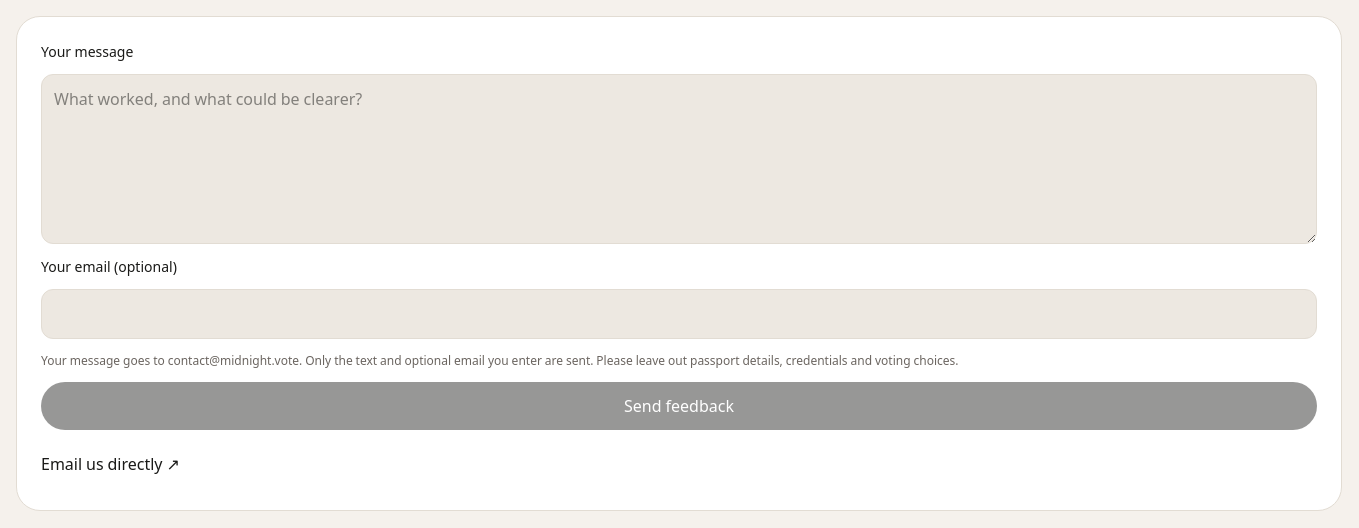
Test case: feedback submission › sends only explicitly entered text and email, and prevents duplicate clicks
Type "The Passport retry could be clearer." into the text box labelled "Your message" at x=679, y=159, box x1=41 y1=74 x2=1317 y2=244
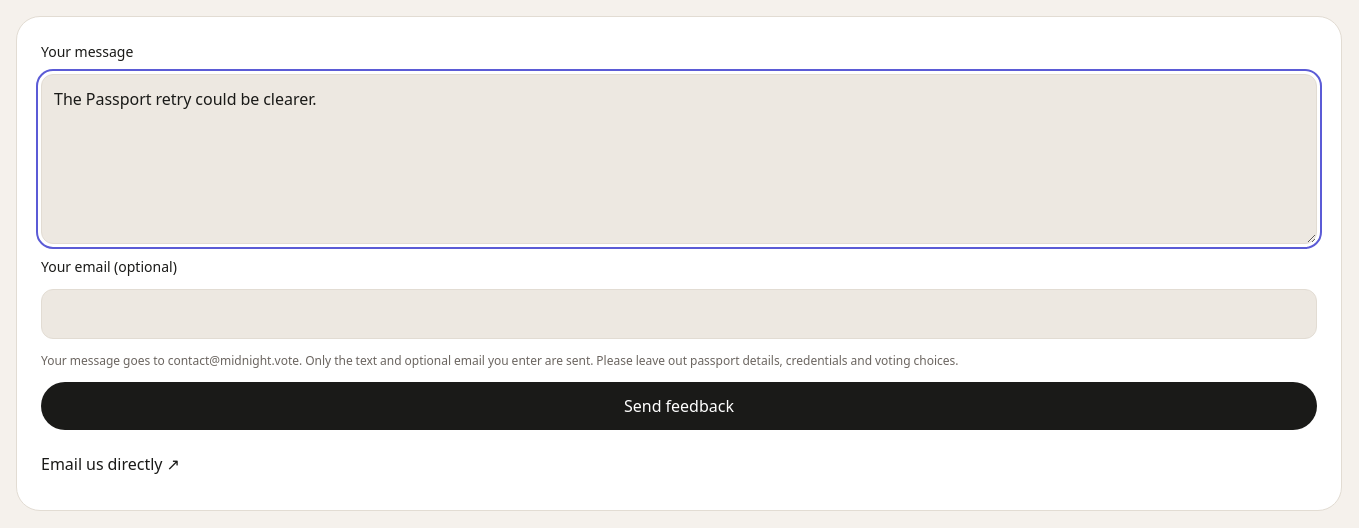
Type "tester@example.com" into the field labelled "Your email (optional)" at x=679, y=314, box x1=41 y1=289 x2=1317 y2=339
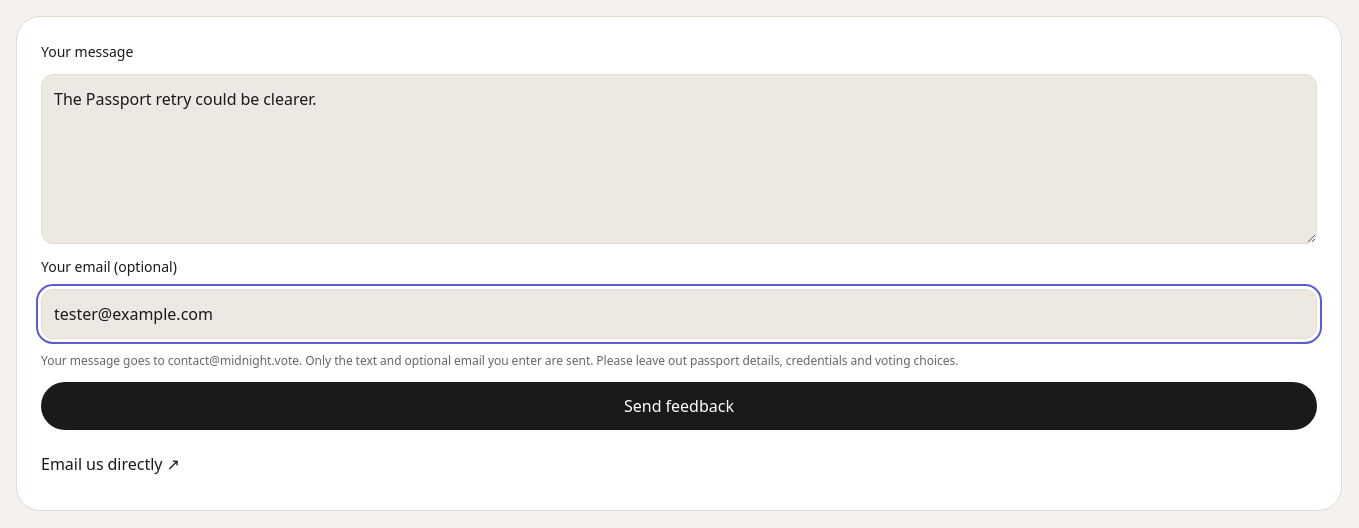
Double-click the button "Send feedback" at x=679, y=406, box x1=41 y1=382 x2=1317 y2=430
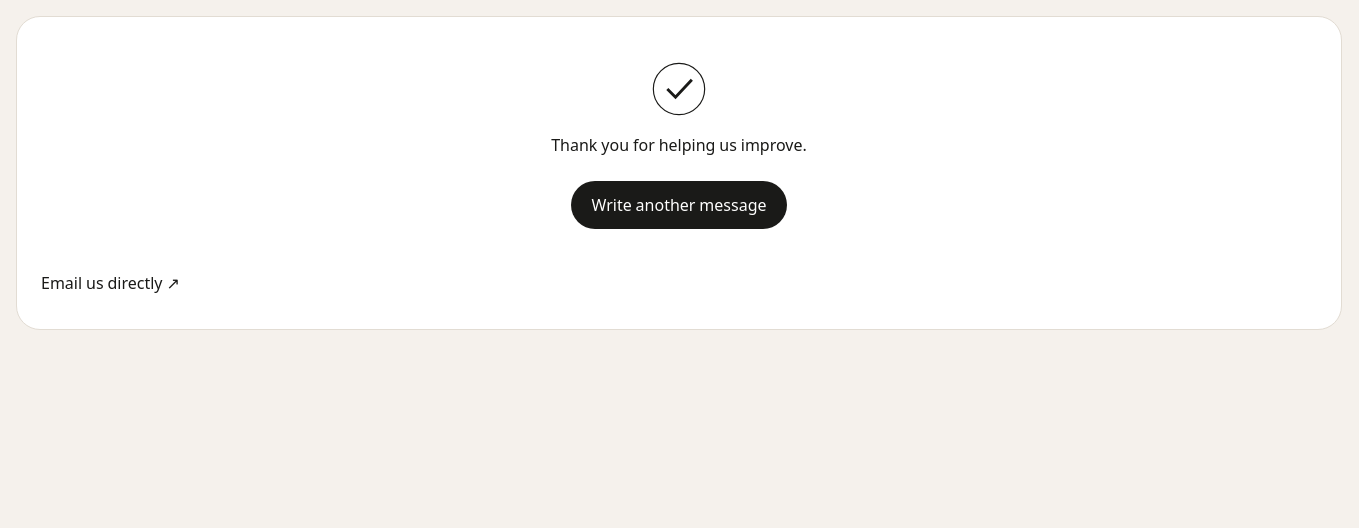
Expected: the message shows "Thank you", x1=551 y1=135 x2=807 y2=155
Expected: the label "Your message" is gone
